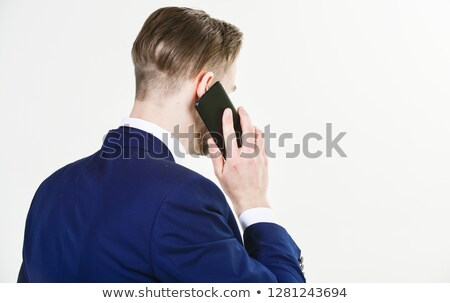phone: (194, 76, 257, 159)
